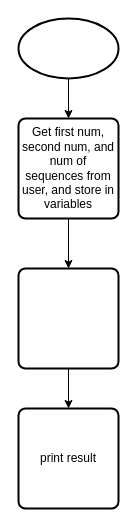
This 136x526 diagram has some shape labels left out. Each missing label, with the centre of its shape:
"Add together previous 2 numbers and append this value to the end N-2 times" belongs at pixel 68 318.
"Start" belongs at pixel 68 48.
